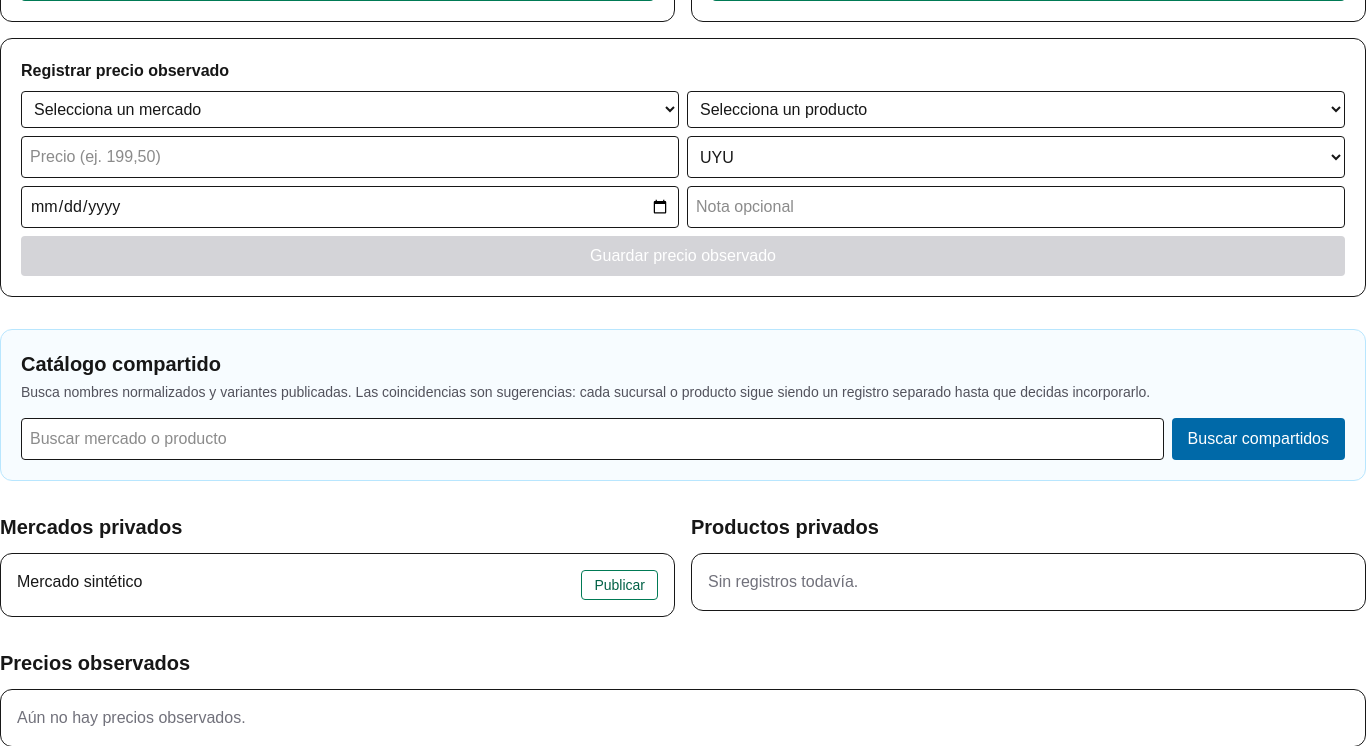
GroceryCatalogManager › requires confirmation and publishes an explicit private catalog source
(page scrolled)
Click the button "Publicar".
click(620, 585)  # box [581,570,658,600]
(page scrolled)
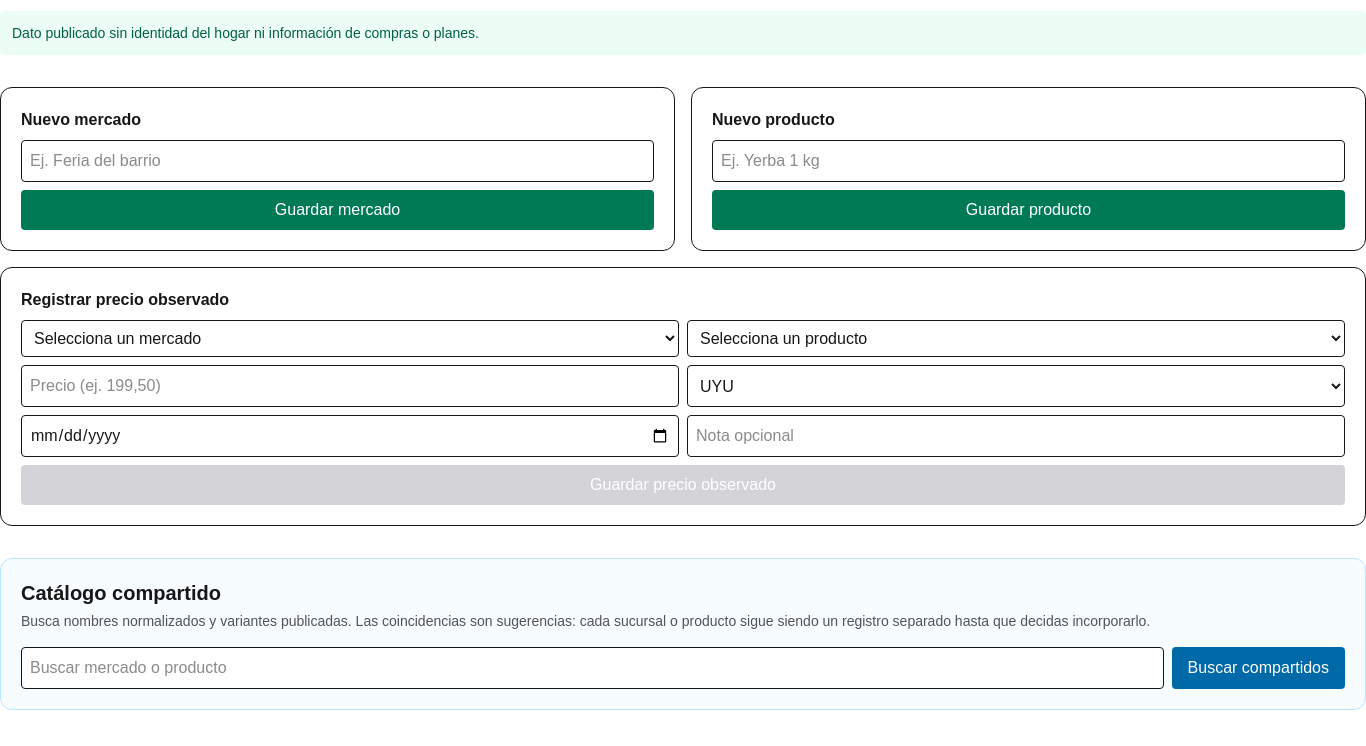
Now the text "Dato publicado sin identidad del hogar ni información de compras o planes." is shown, box [0,11,1365,55]
